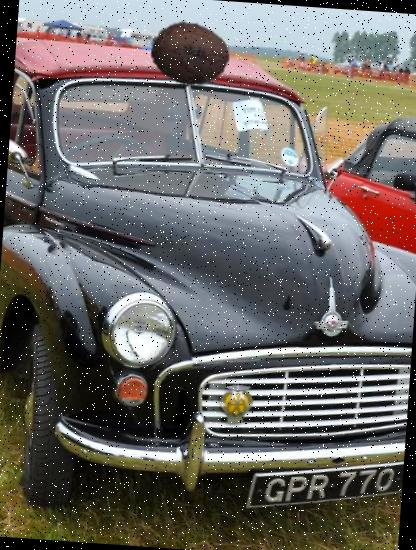Cocos: (148, 10, 232, 94)
